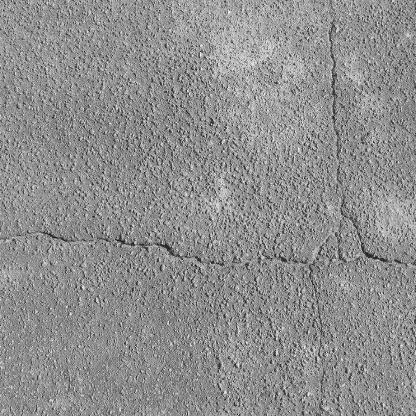Cracks: (0, 231, 320, 269), (322, 21, 365, 267)
